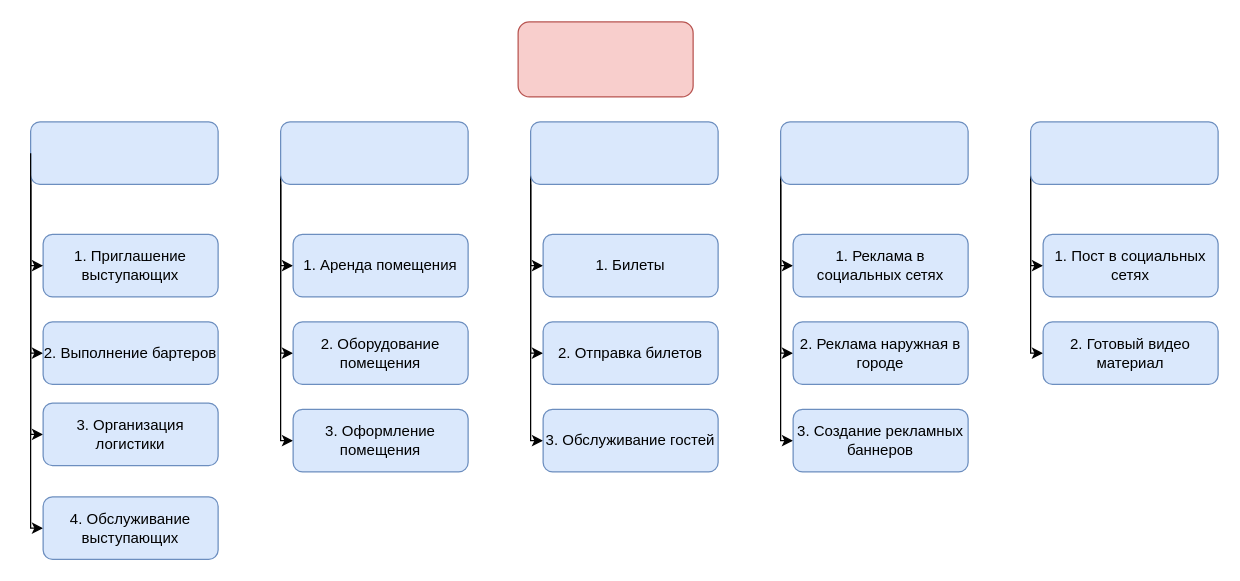
Some shapes in this 1240 by 581 pixel diagram are drawn without their labels. The centre of each missing label's shape, as x and y in pixels:
"1. Выступающие" goes at point (123, 152).
"2. Помещение" goes at point (373, 152).
"3. Гости" goes at point (623, 152).
"4. Реклама" goes at point (873, 152).
"5. Организация после ивента" goes at point (1123, 152).
"Организация концерта в филармонии" goes at point (605, 59).
